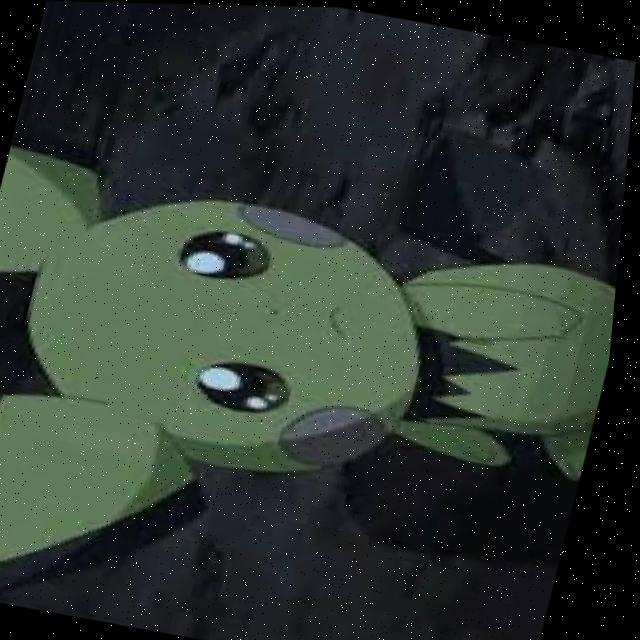pichu: (0, 130, 631, 640)
